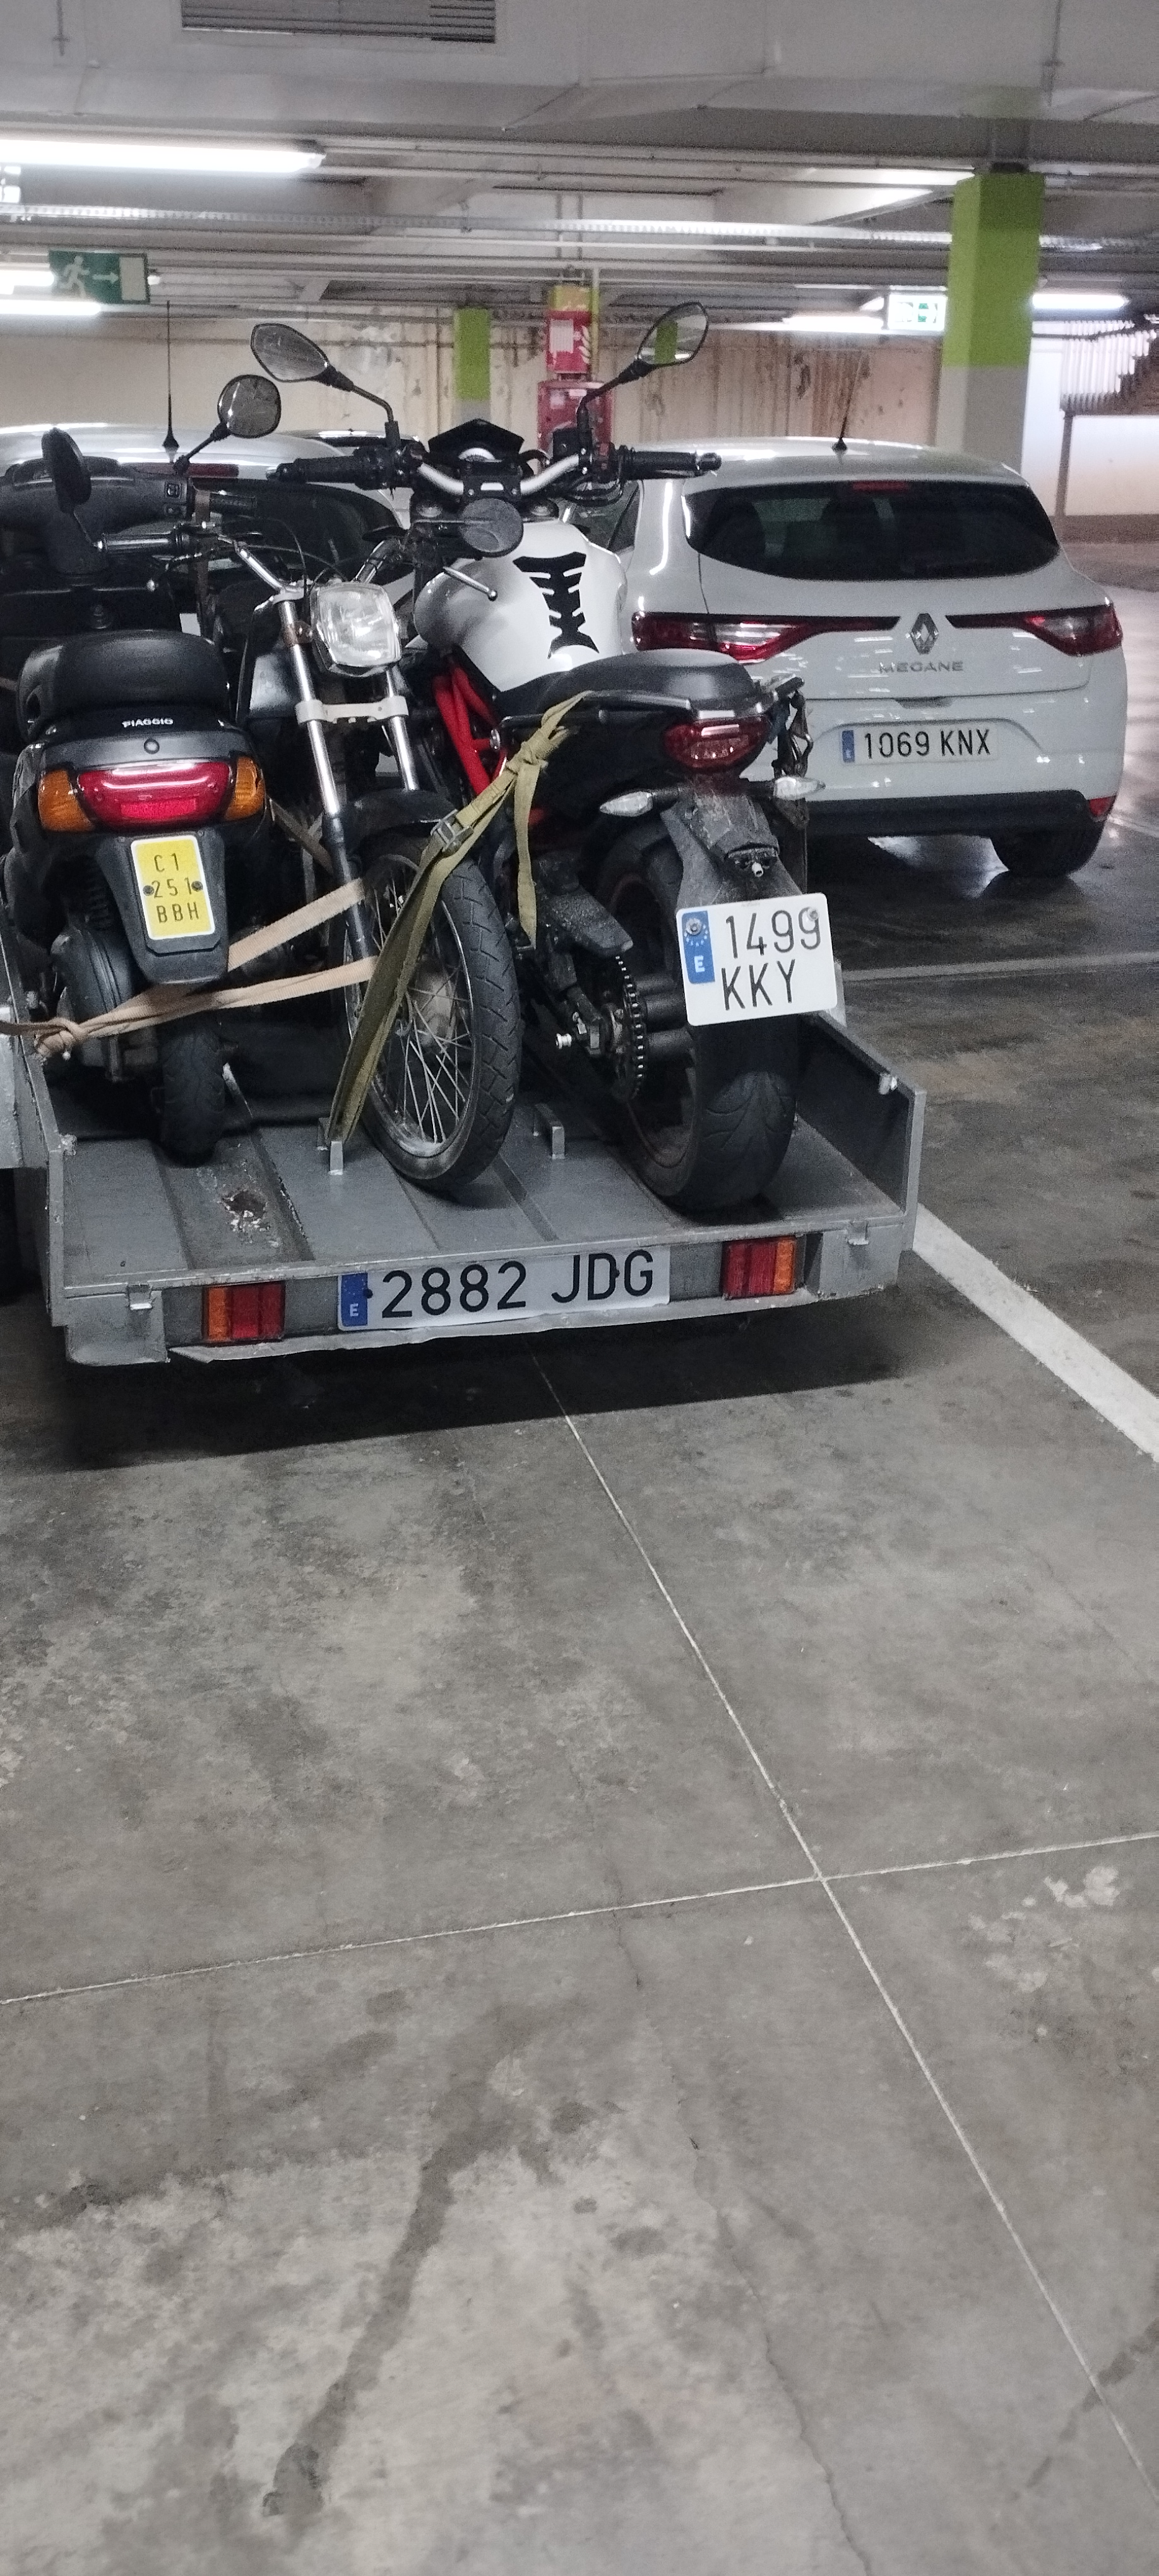Plate: (338, 1273, 673, 1341), (673, 908, 832, 1023), (839, 728, 992, 761)
